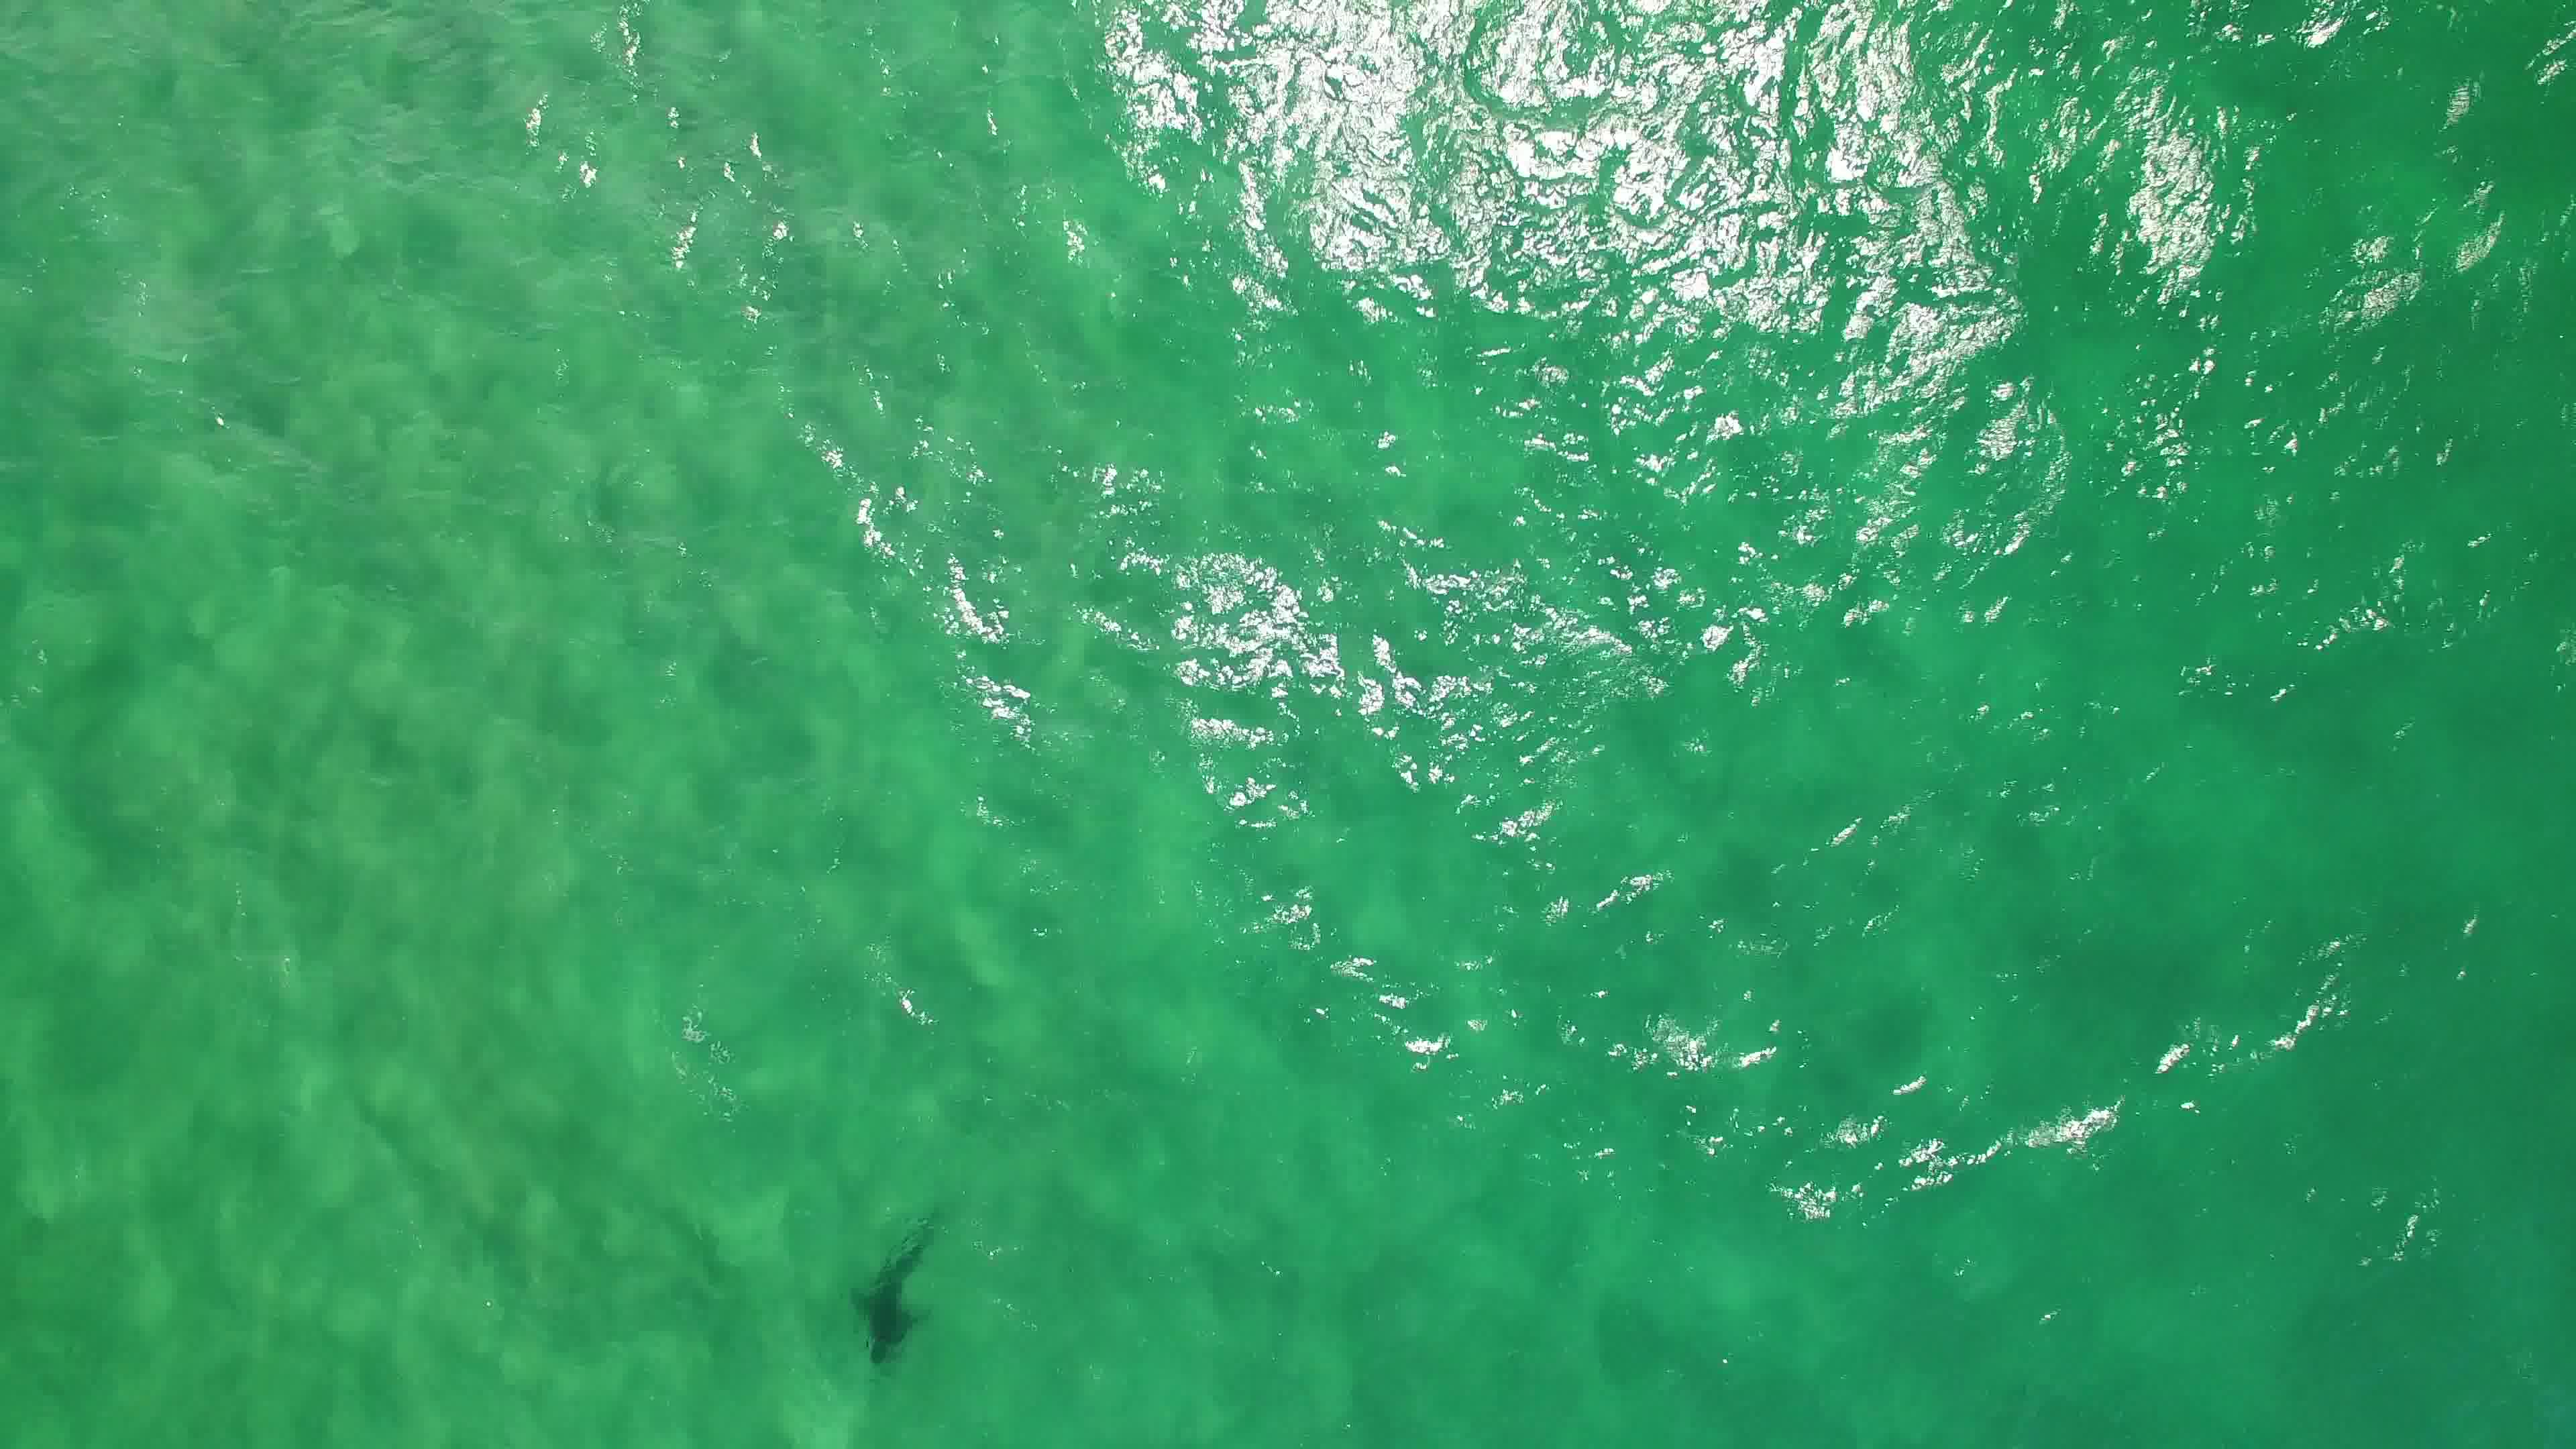shark: (839, 1200, 941, 1369)
